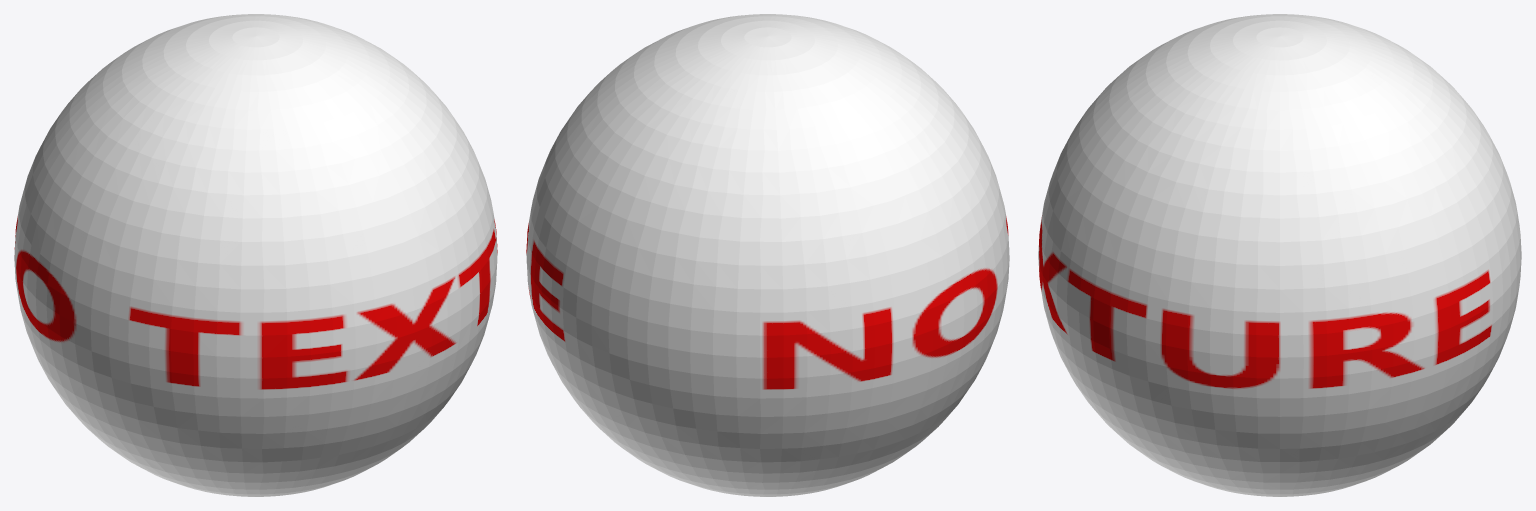
The model's file is unit_sphere.obj.
3 renders of one model, left to right at view 1: azimuth 30°, elevation 25°; view 2: azimuth 150°, elevation 25°; view 3: azimuth 270°, elevation 25°, orthographic.
Visible parts, largest first — view 1: Sphere_Sphere.001; view 2: Sphere_Sphere.001; view 3: Sphere_Sphere.001.
Part boxes in pixels (x1,y1,x2,y2): Sphere_Sphere.001: (14,14,497,496); Sphere_Sphere.001: (526,14,1009,496); Sphere_Sphere.001: (1038,14,1521,496).
Size of the model in its own units: 2 by 2 by 2.
